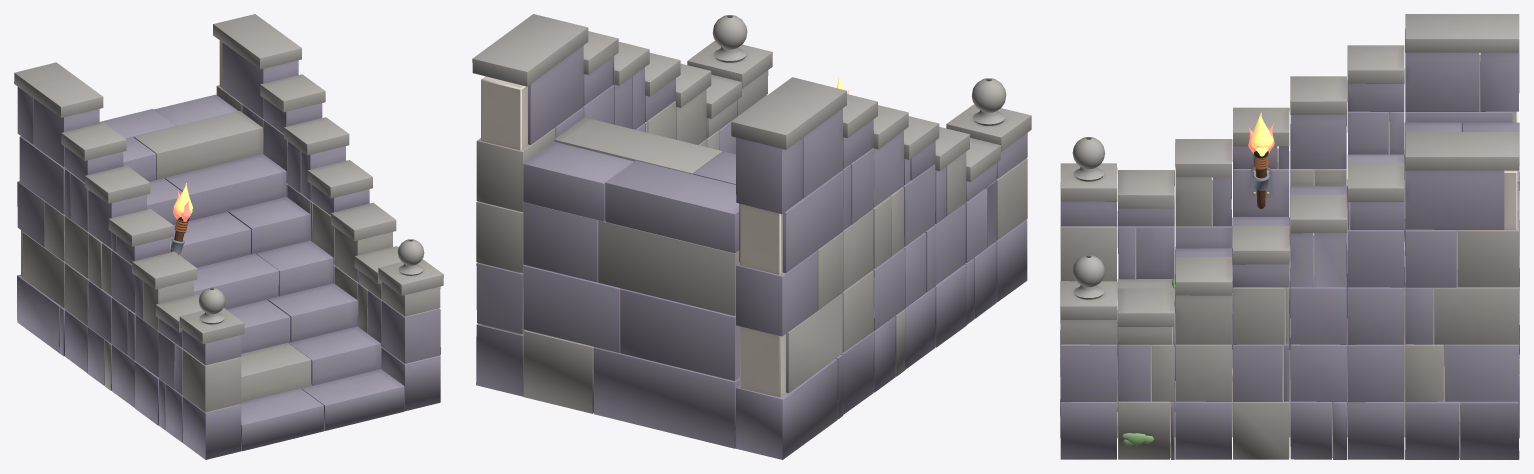
The model's file is dungeon-stairs.fbx.
3 renders of one model, left to right at view 1: azimuth 30°, elevation 25°; view 2: azimuth 150°, elevation 25°; view 3: azimuth 270°, elevation 25°, orthographic. The views are drawn at different scales.
Visible parts, largest first — view 1: dungeon-stairs_body, dungeon-stairs_flame; view 2: dungeon-stairs_body; view 3: dungeon-stairs_body, dungeon-stairs_flame.
Boxes of the visible parts, bbox=[...] form: dungeon-stairs_body: bbox=[14, 14, 443, 459]; dungeon-stairs_flame: bbox=[173, 183, 192, 221]; dungeon-stairs_body: bbox=[472, 14, 1031, 459]; dungeon-stairs_body: bbox=[1060, 14, 1519, 459]; dungeon-stairs_flame: bbox=[1248, 112, 1274, 156].
Size of the model in its own units: 1.77 by 1.76 by 2.4.
4 materials, 1 textured.
